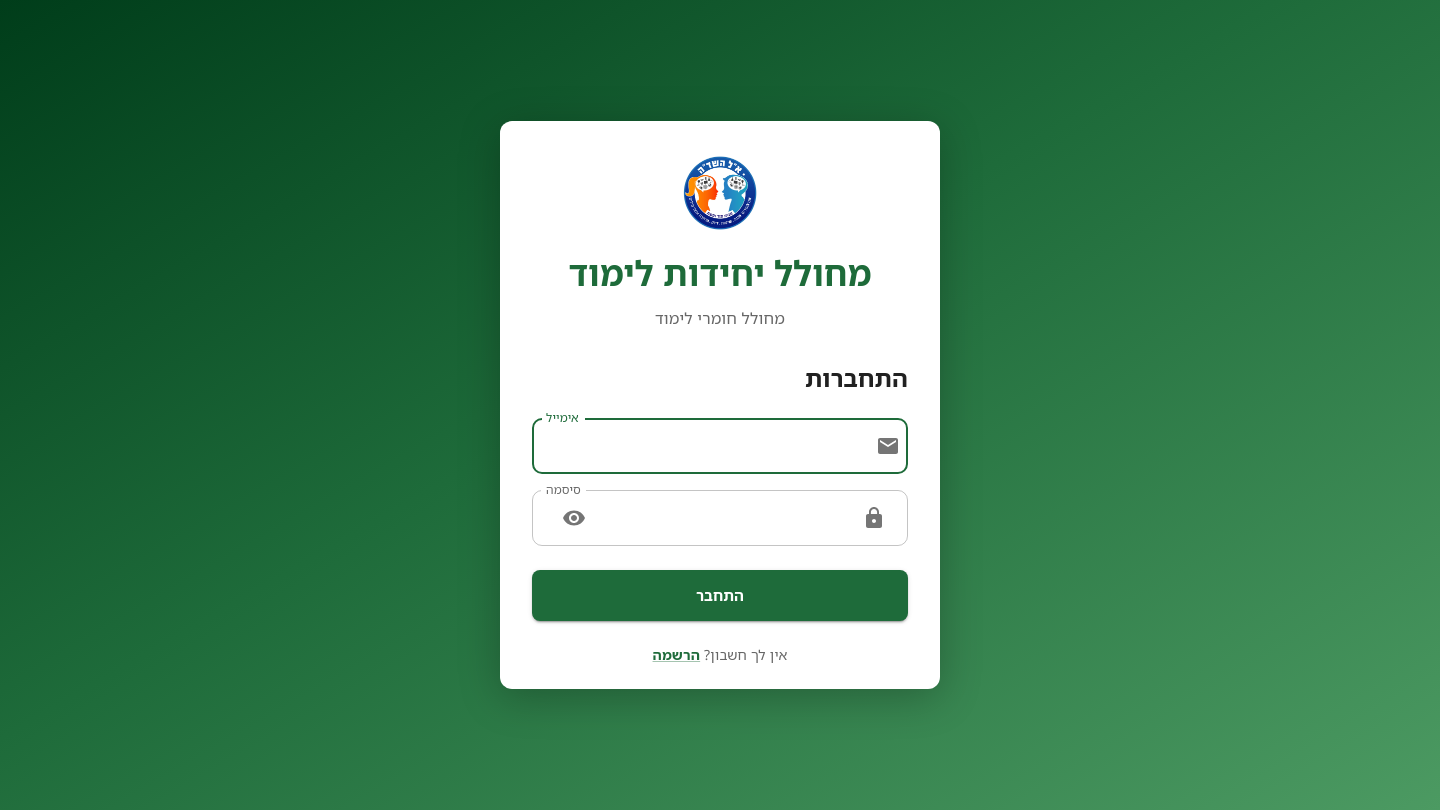
Test: LoginPage › shows validation error for invalid email
Type "not-an-email" into the field labelled "אימייל". click: [711, 446]
box: [546,418,876,474]
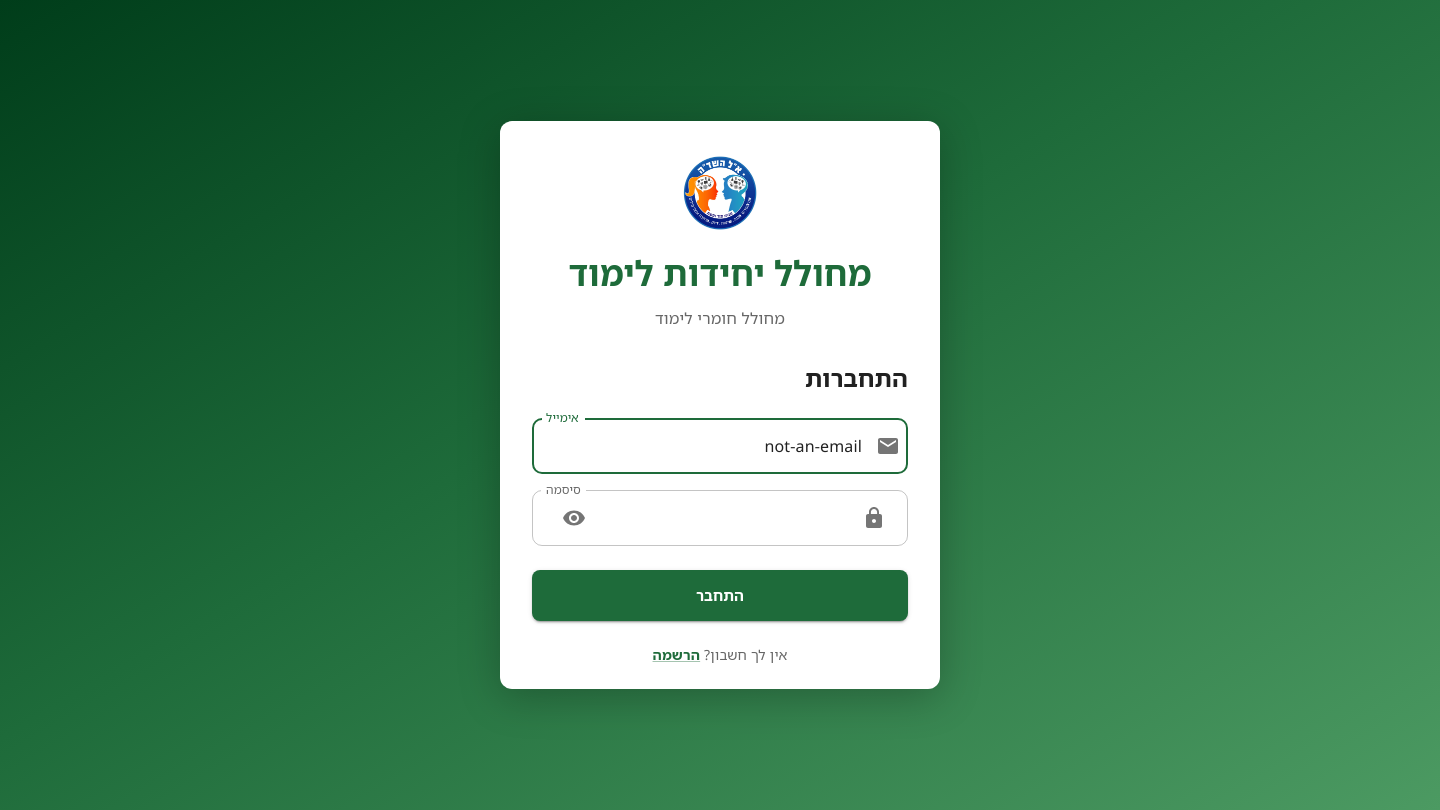
Type "password123" into the password field labelled "סיסמה". click: [722, 518]
box: [582,490,862,546]
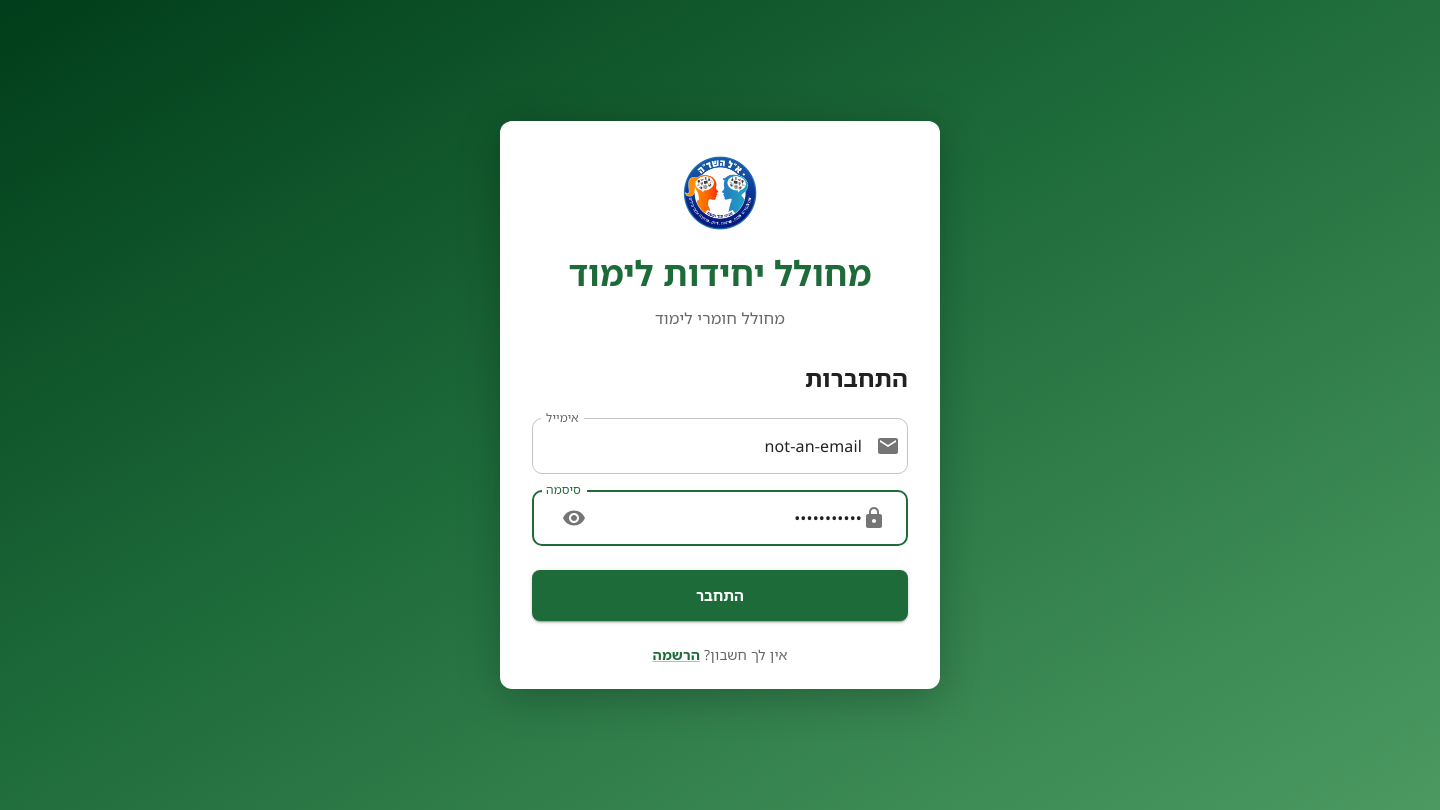
Click the button "התחבר". click: [720, 595]
box: [532,570,908,621]
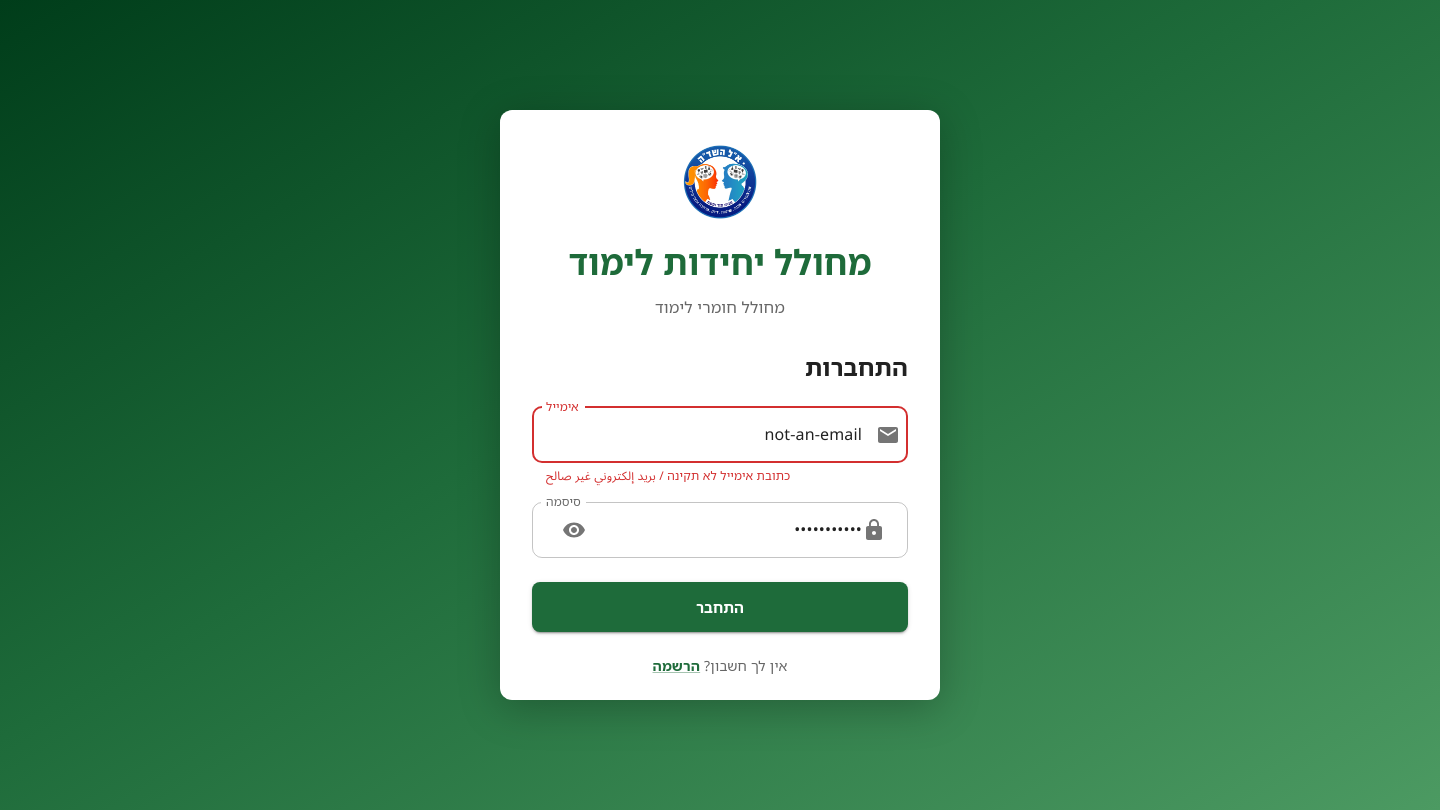
expect the text "כתובת אימייל לא תקינה / بريد إلكتروني غير صالح" is shown: met, box [546,467,790,484]
